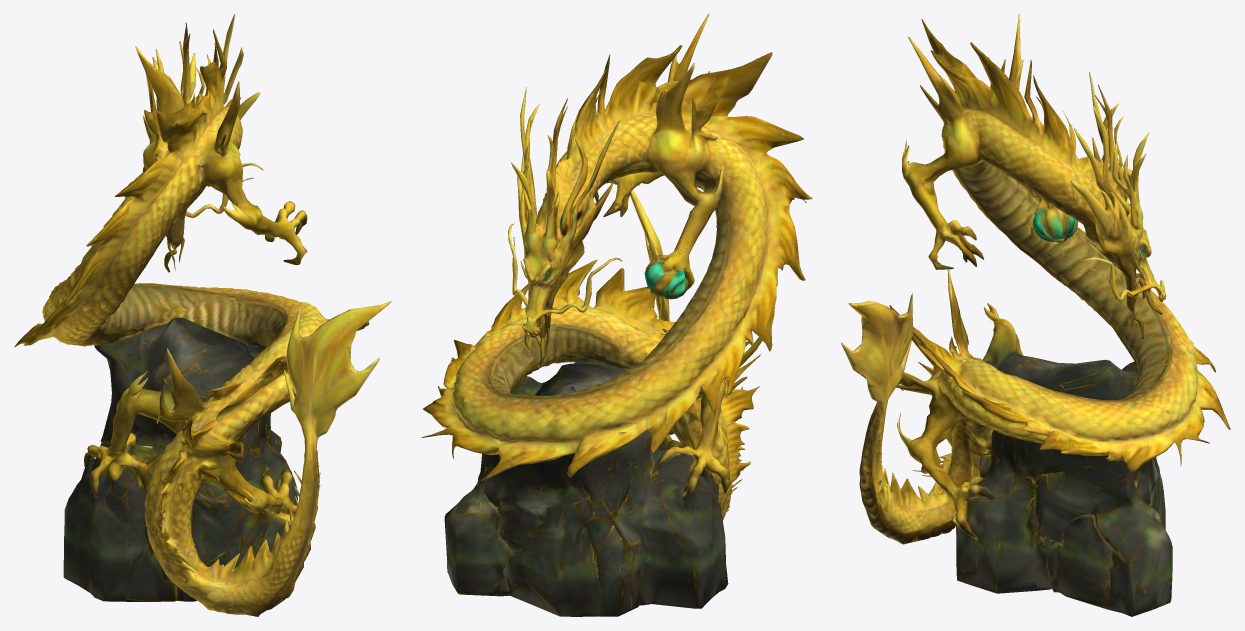
File: cj_jang_gate_dragon.remaster.glb
3 renders of one model, left to right at view 1: azimuth 30°, elevation 25°; view 2: azimuth 150°, elevation 25°; view 3: azimuth 270°, elevation 25°, orthographic. The views are drawn at different scales.
Parts seen in each view (by area): view 1: cj_jang_gate_dragon; view 2: cj_jang_gate_dragon; view 3: cj_jang_gate_dragon.
Part boxes in pixels (x1=…): cj_jang_gate_dragon: x1=14, y1=14, x2=392, y2=616; cj_jang_gate_dragon: x1=421, y1=14, x2=812, y2=616; cj_jang_gate_dragon: x1=841, y1=14, x2=1230, y2=616.
Size of the model in its own units: 12.11 by 18.58 by 12.84.
Materials: 1 (1 with a texture image).
